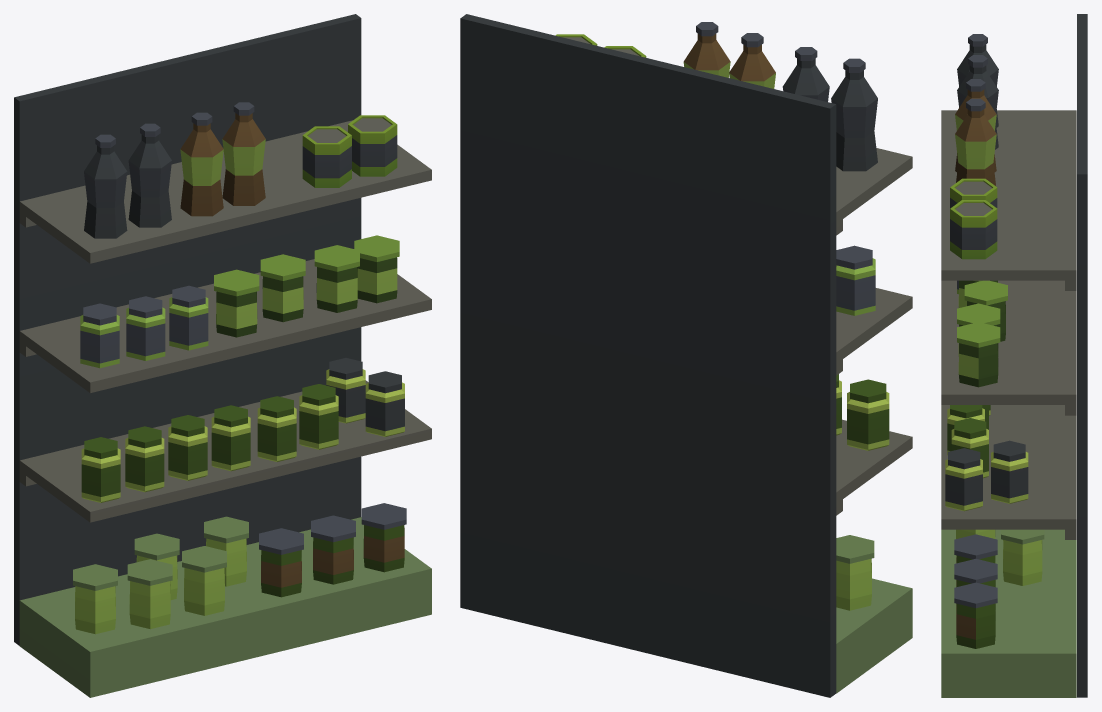
Rendered from SuperMarketPart_02.fbx.
3 views of the same model, side by side, from view 1: azimuth 30°, elevation 25°; view 2: azimuth 150°, elevation 25°; view 3: azimuth 270°, elevation 25° (orthographic). The views are drawn at different scales.
Parts seen in each view (by area): view 1: SuperMarketPart_02; view 2: SuperMarketPart_02; view 3: SuperMarketPart_02.
Boxes of the visible parts, <box> form: SuperMarketPart_02: <box>14,14,431,697</box>; SuperMarketPart_02: <box>460,14,912,697</box>; SuperMarketPart_02: <box>941,14,1087,697</box>.
Bounding box in the file's own units: 1.12 × 1.7 × 0.4298.
